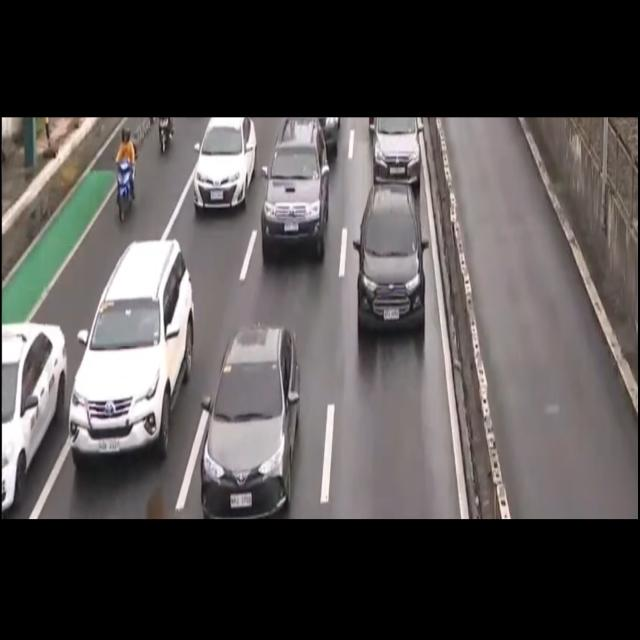Motorcycle: (112, 123, 144, 219)
SUV: (67, 240, 195, 461), (350, 187, 422, 336), (257, 129, 325, 264)
Sedan: (202, 328, 299, 511), (0, 320, 67, 504), (193, 117, 256, 212), (370, 117, 422, 188)
